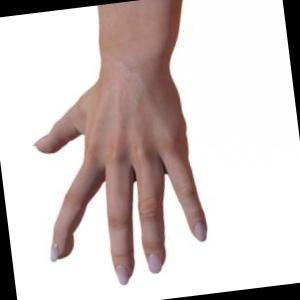paper: (35, 12, 207, 285)
